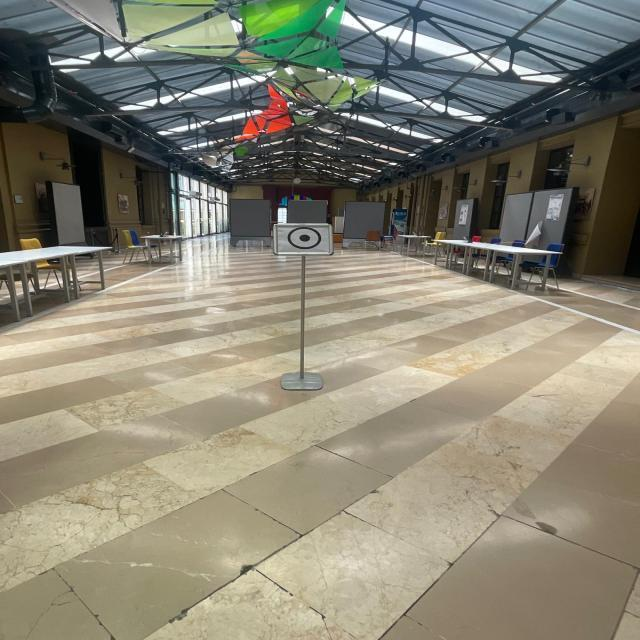Target: (257, 210, 351, 265)
inner: (296, 228, 312, 248)
